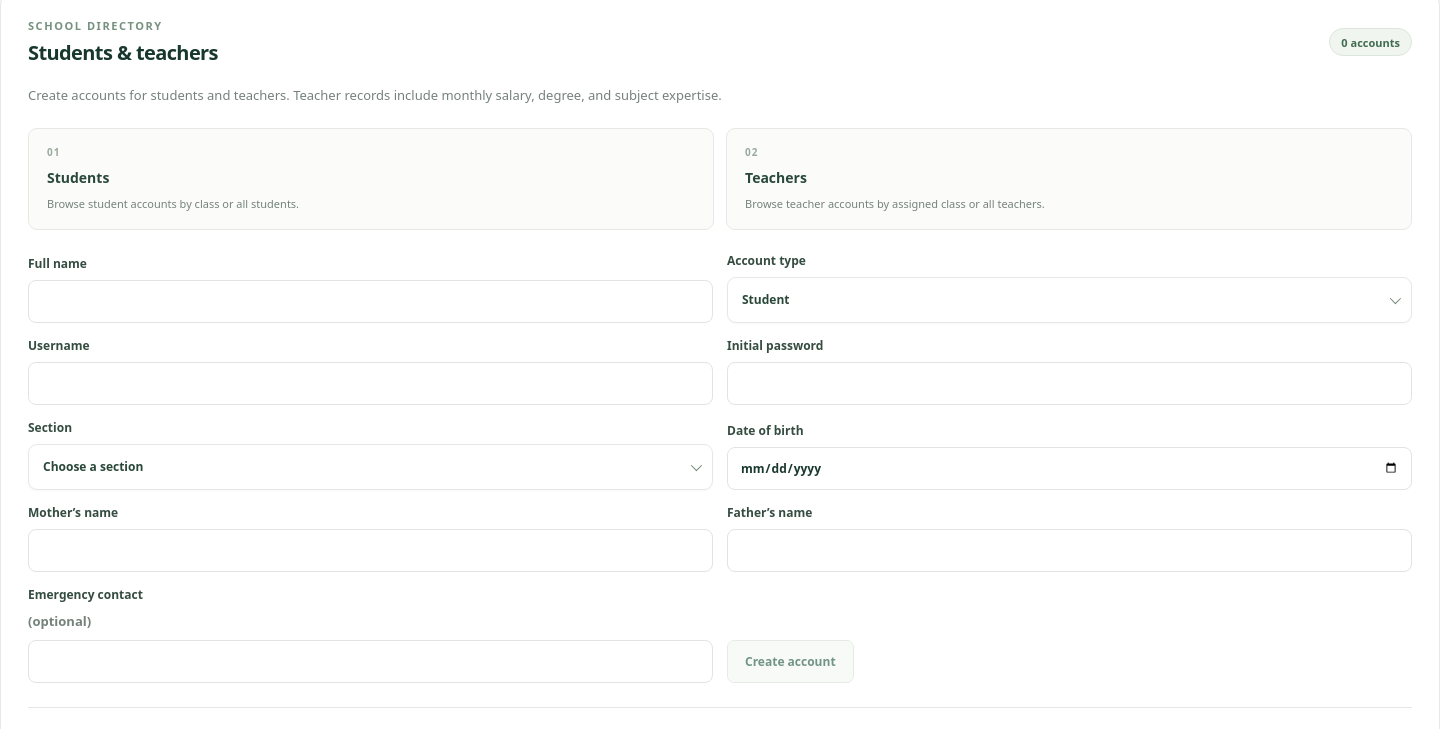
Test: people directory › offers student/teacher cards, class and all views, search, and class sorting
The width and height of the screenshot is (1440, 729).
Click the button "Students".
click(78, 178)  # box [28,128,714,230]
(page scrolled)
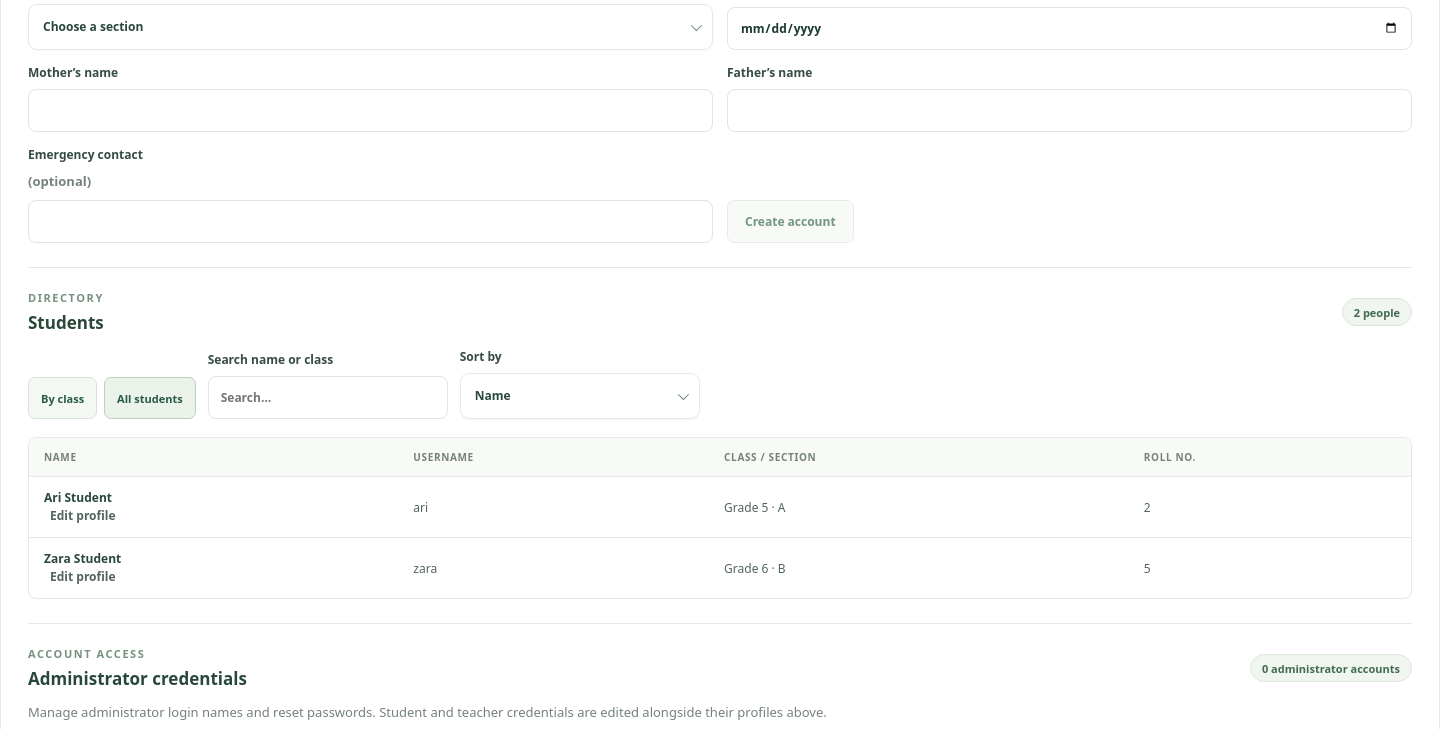
expect the button "All students" is shown: met, box [104,377,196,419]
expect the text "Zara Student" is shown: met, box [44,550,121,567]
Click the button "By class".
click(63, 398)  # box [28,377,97,419]
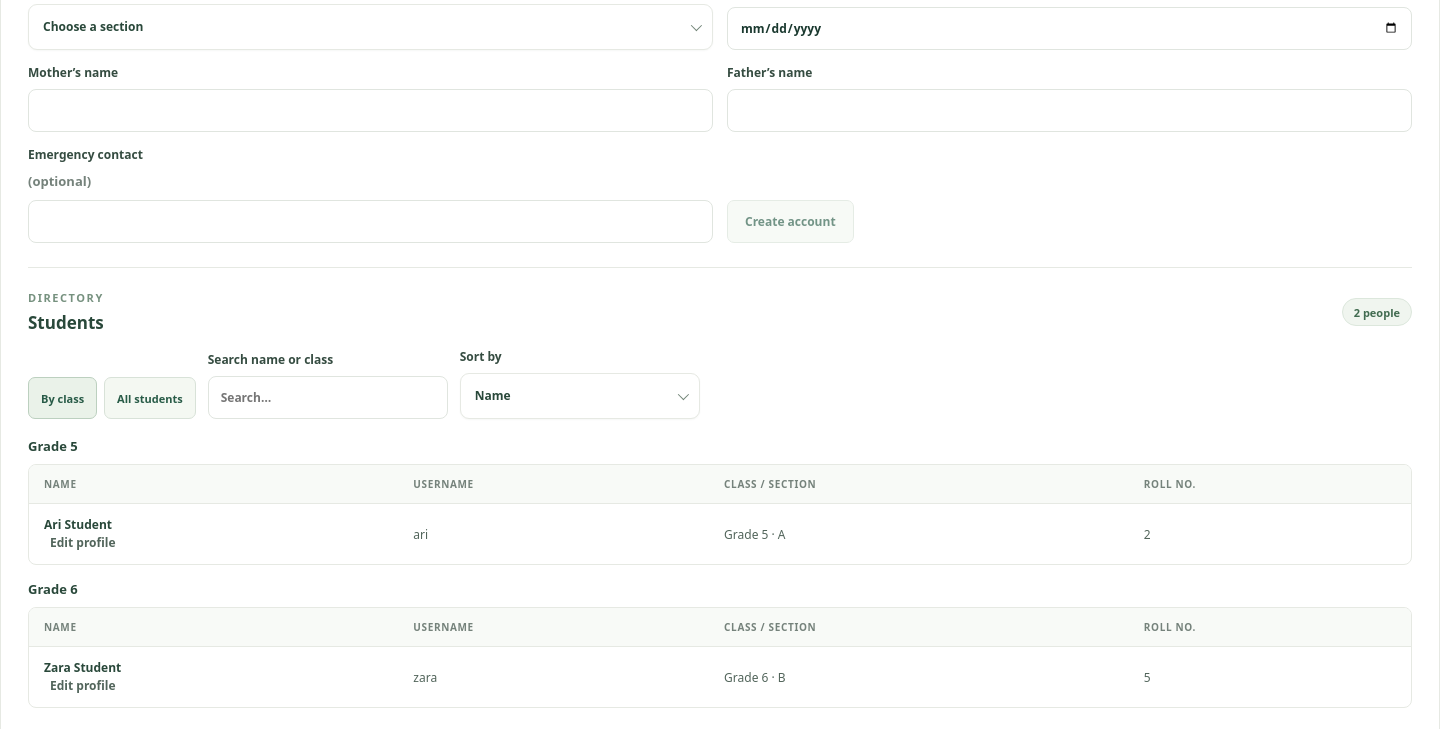
expect the heading "Grade 5" is shown: met, box [28,437,78,455]
expect the heading "Grade 6" is shown: met, box [28,580,78,598]
Type "grade 6" into the field labelled "Search name or class".
click(328, 398); type("grade 6")  # box [208,376,448,419]
(page scrolled)
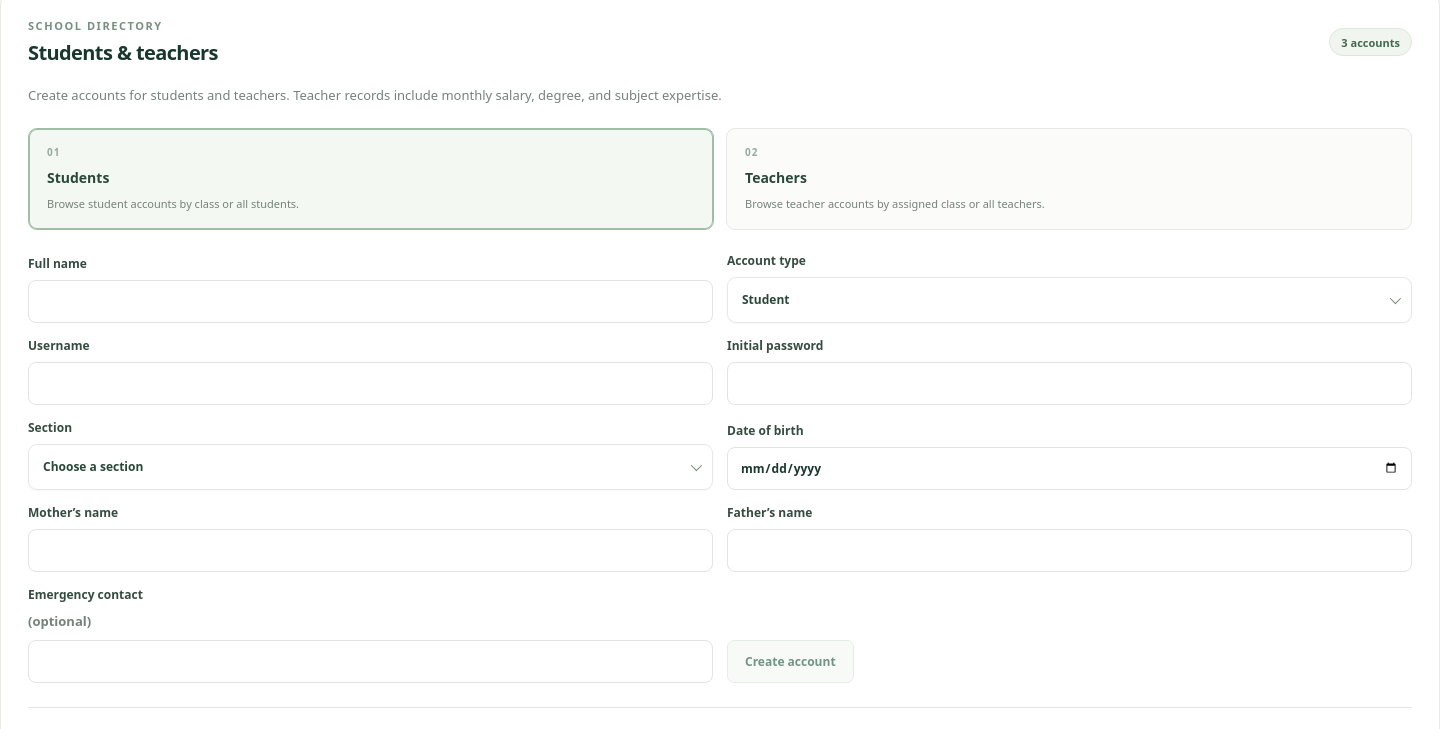
expect the text "Ari Student" is gone: met
Click the button "Teachers".
click(776, 178)  # box [726,128,1412,230]
(page scrolled)
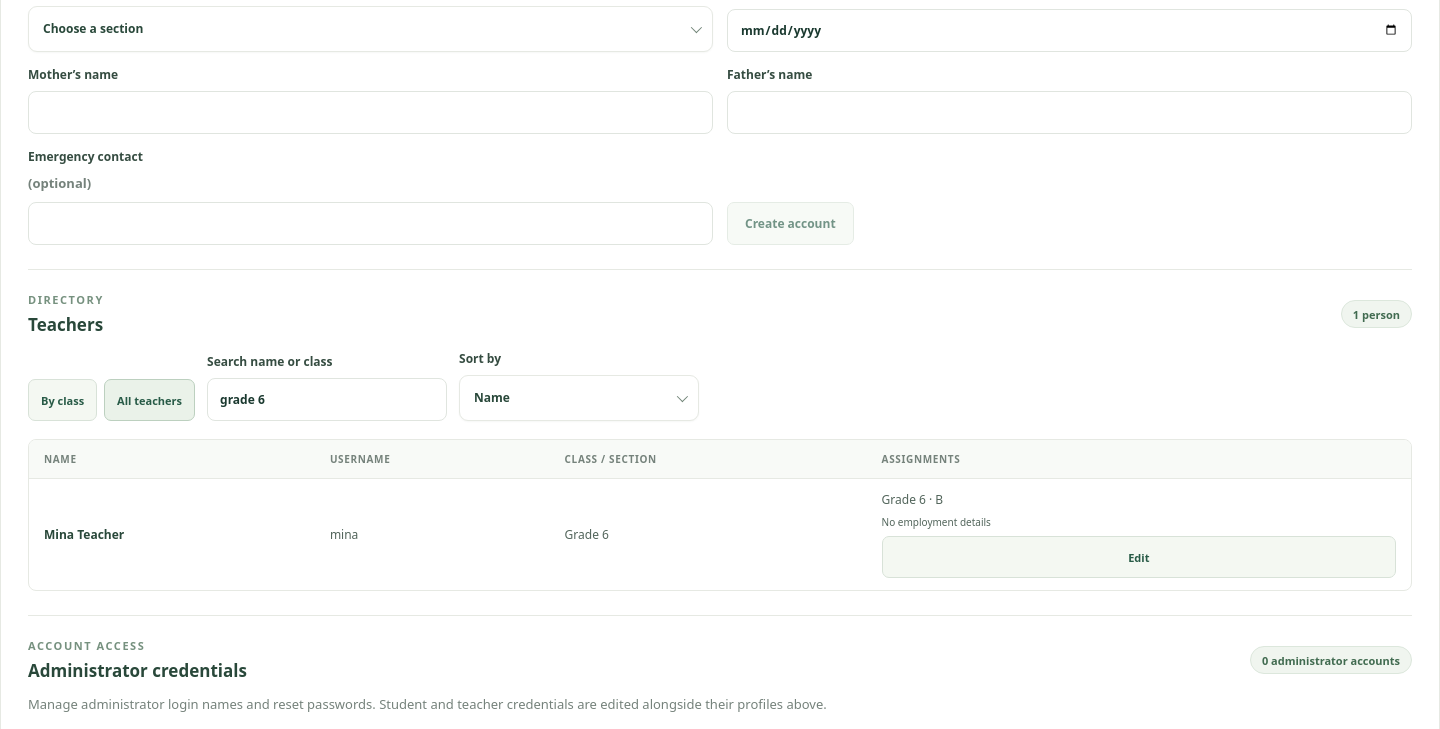
expect the text "Mina Teacher" is shown: met, box [29,479,315,590]
Click the dropdown named "Sort by".
click(579, 398)  # box [459,375,699,421]
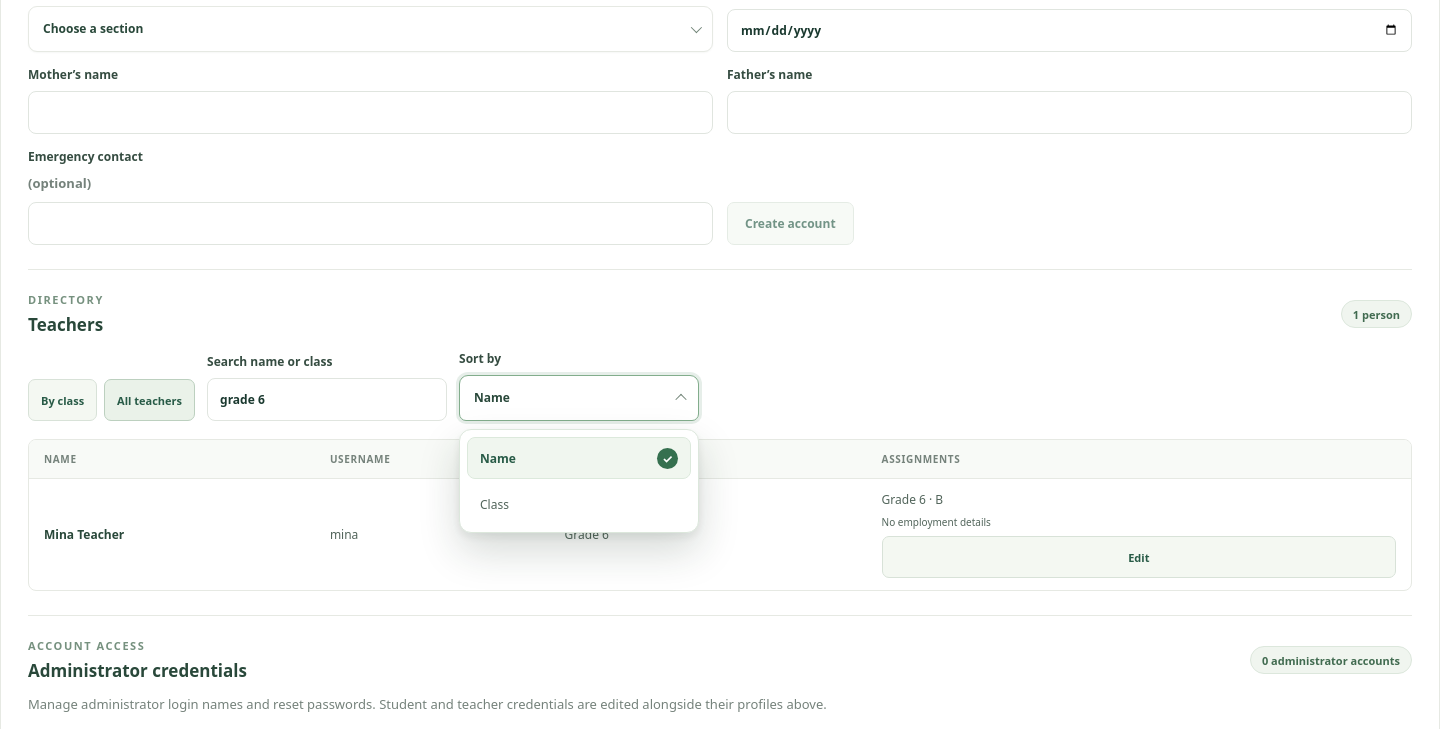
Click the option "Class".
click(494, 504)  # box [480,496,509,513]
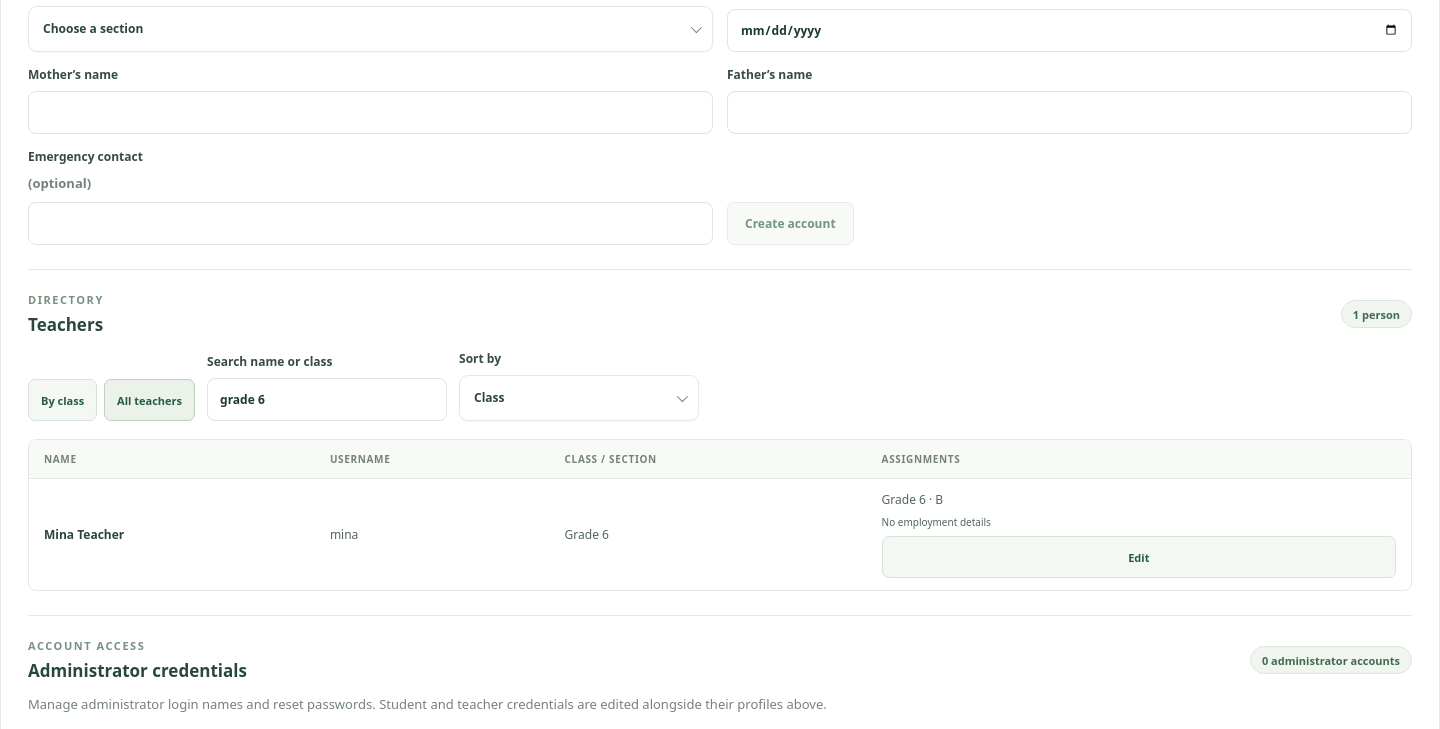
expect the dropdown named "Sort by" reads "Class": met, box [459,375,699,421]
